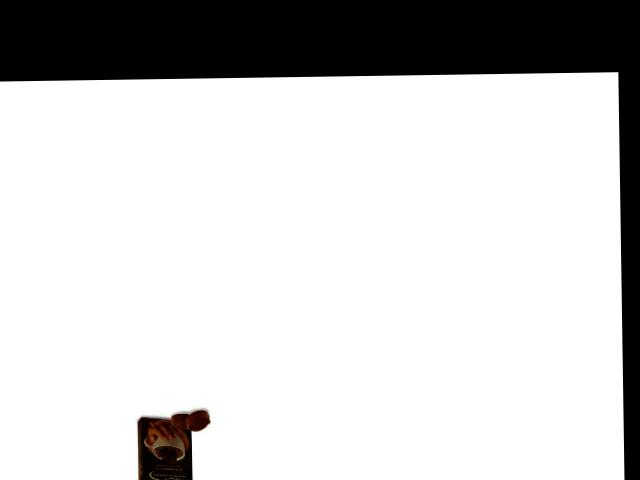chocolate: (133, 414, 201, 480)
